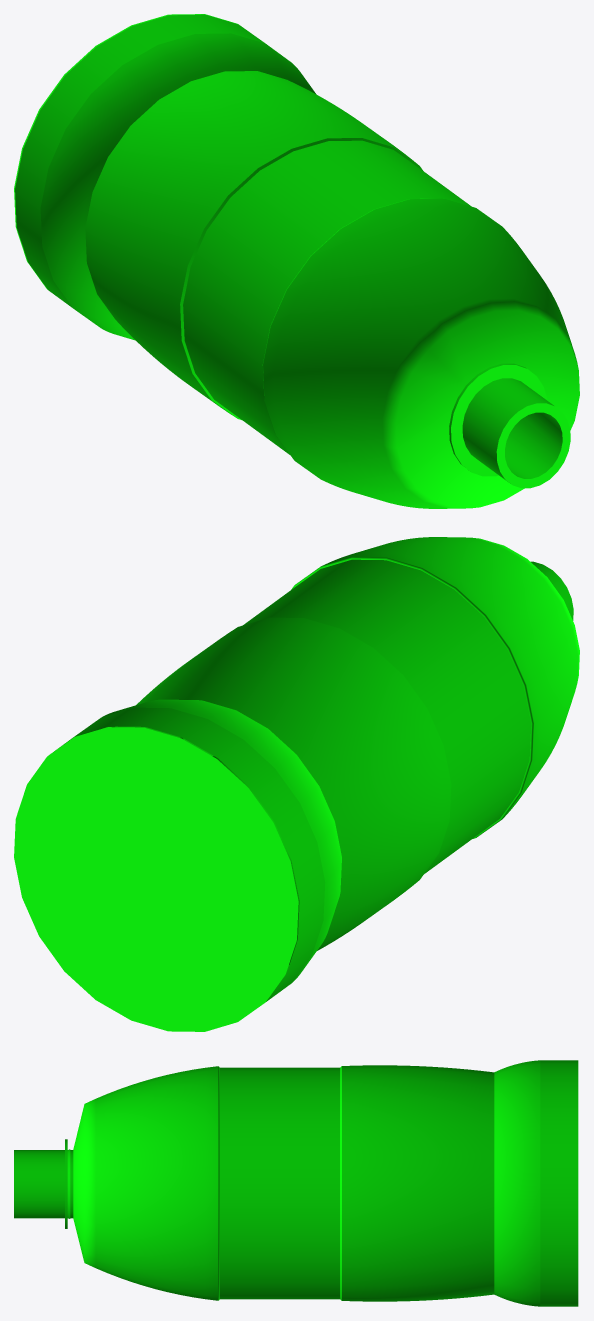
The model's file is model_scale.obj.
The picture shows the model from 3 angles, top to bottom: view 1: azimuth 30°, elevation 25°; view 2: azimuth 150°, elevation 25°; view 3: azimuth 270°, elevation 25°; orthographic projection. The views are drawn at different scales.
Visible parts, largest first — view 1: mesh1_mesh1-geometry, mesh2_mesh2-geometry; view 2: mesh1_mesh1-geometry, mesh2_mesh2-geometry; view 3: mesh1_mesh1-geometry.
Boxes of the visible parts, x1,y1,x2,y2 form: mesh1_mesh1-geometry: (15, 14, 579, 508); mesh2_mesh2-geometry: (14, 14, 238, 289); mesh1_mesh1-geometry: (54, 537, 579, 1001); mesh2_mesh2-geometry: (14, 727, 298, 1031); mesh1_mesh1-geometry: (14, 1060, 578, 1306).
Size of the model in its own units: 0.1063 by 0.1063 by 0.2451.
